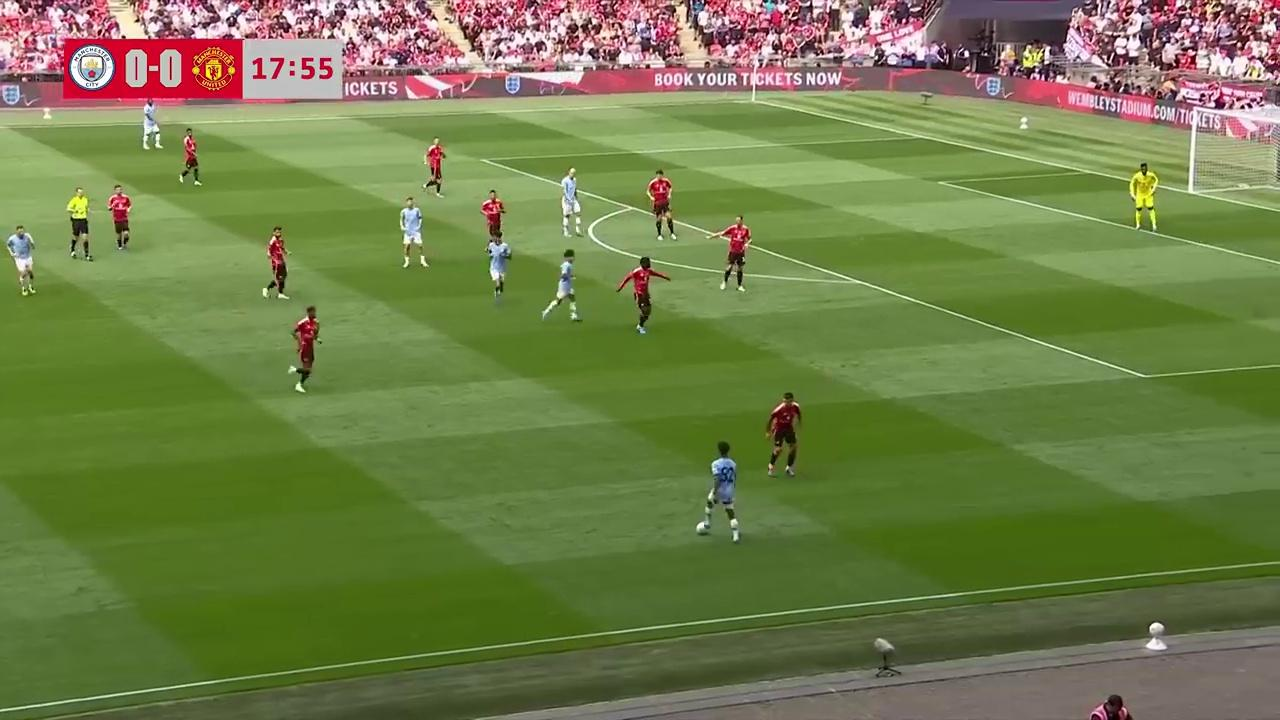ball: (695, 518, 707, 536)
player: (695, 440, 741, 542), (615, 255, 672, 335), (765, 391, 802, 478), (541, 249, 582, 322), (713, 214, 751, 291), (290, 305, 321, 393), (5, 223, 36, 296), (646, 168, 677, 240), (399, 196, 428, 269), (263, 225, 290, 300), (1130, 161, 1157, 232), (486, 234, 512, 302), (106, 183, 131, 251), (560, 166, 583, 237), (480, 189, 506, 246), (423, 138, 446, 197), (178, 128, 201, 185), (141, 100, 162, 150)
referee: (65, 186, 93, 261)
